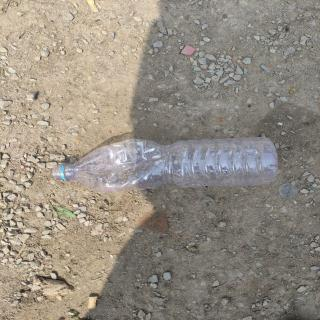Plastic-bottle: (50, 136, 283, 198)
